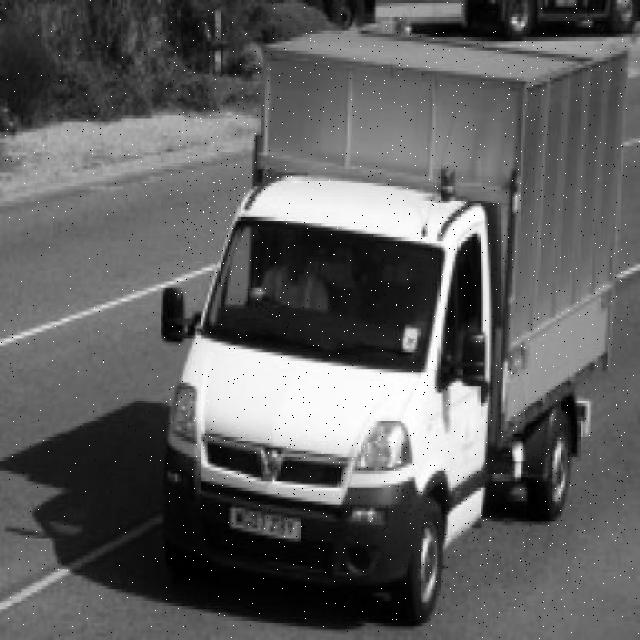Box Truck: (162, 31, 629, 627)
